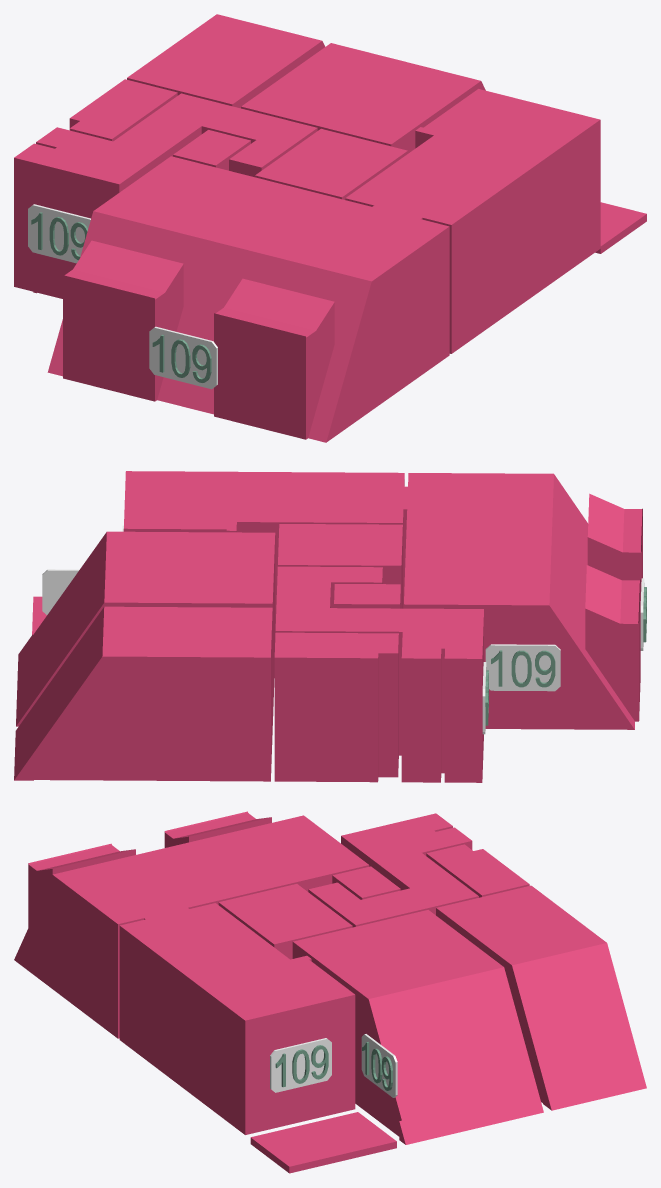
3 renders of one model, top to bottom at view 1: azimuth 30°, elevation 25°; view 2: azimuth 150°, elevation 25°; view 3: azimuth 270°, elevation 25°, orthographic. The views are drawn at different scales.
Parts seen in each view (by area): view 1: g_6, g_5, g_4, g_1, g_2, g_3, g_0, g_28, g_16, g_7, g_8; view 2: g_6, g_2, g_4, g_1, g_0, g_5, g_3, g_12, g_7, g_20; view 3: g_5, g_1, g_6, g_2, g_4, g_8, g_3, g_0, g_24, g_7, g_20.
Part boxes in pixels (box(x1,y1,x2,y2)): g_6: box(47, 156, 449, 442); g_5: box(345, 89, 600, 353); g_4: box(14, 93, 317, 298); g_1: box(241, 43, 485, 153); g_2: box(127, 14, 325, 108); g_3: box(255, 128, 407, 199); g_0: box(69, 79, 177, 141); g_28: box(149, 326, 217, 389); g_16: box(28, 204, 90, 263); g_7: box(173, 130, 250, 170); g_8: box(595, 202, 646, 253); g_6: box(404, 473, 642, 729); g_2: box(14, 606, 272, 781); g_4: box(275, 566, 483, 782); g_1: box(16, 531, 275, 726); g_0: box(274, 632, 398, 782); g_5: box(123, 471, 405, 632); g_3: box(278, 524, 402, 608); g_12: box(485, 644, 560, 691); g_7: box(334, 584, 400, 608); g_20: box(42, 569, 79, 614); g_5: box(119, 903, 355, 1134); g_1: box(292, 910, 543, 1144); g_6: box(14, 811, 369, 1038); g_2: box(436, 885, 646, 1110); g_4: box(308, 813, 478, 927); g_8: box(250, 1112, 396, 1173); g_3: box(218, 884, 352, 959); g_0: box(426, 844, 529, 897); g_24: box(270, 1038, 331, 1092); g_7: box(332, 866, 400, 899); g_20: box(361, 1034, 397, 1097).
Bounding box in the file's own units: 12.64 × 2.71 × 12.75.
